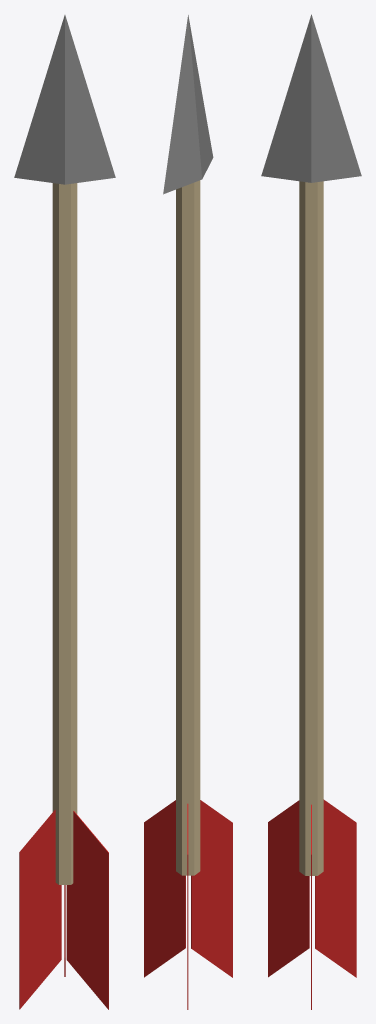
Rendered from arrow.dae.
The picture shows the model from 3 angles, left to right: view 1: azimuth 90°, elevation 25°; view 2: azimuth 150°, elevation 25°; view 3: azimuth 270°, elevation 25°; orthographic projection.
Parts seen in each view (by area): view 1: Cylinder_002, Cube_005, Cube_006; view 2: Cylinder_002, Cube_005, Cube_006; view 3: Cylinder_002, Cube_005, Cube_006.
Part boxes in pixels (x1=…): Cylinder_002: x1=52, y1=183, x2=77, y2=884; Cube_005: x1=19, y1=809, x2=108, y2=1009; Cube_006: x1=14, y1=15, x2=115, y2=184; Cylinder_002: x1=176, y1=180, x2=200, y2=875; Cube_005: x1=144, y1=800, x2=232, y2=1009; Cube_006: x1=163, y1=15, x2=213, y2=194; Cylinder_002: x1=299, y1=181, x2=323, y2=875; Cube_005: x1=268, y1=799, x2=356, y2=1009; Cube_006: x1=261, y1=14, x2=361, y2=182.
Bounding box in the file's own units: 0.1914 × 0.2489 × 2.66.
